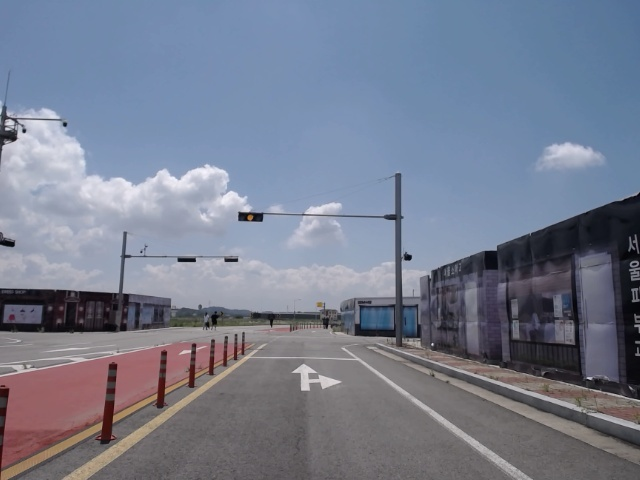orange_3: (238, 211, 264, 222)
